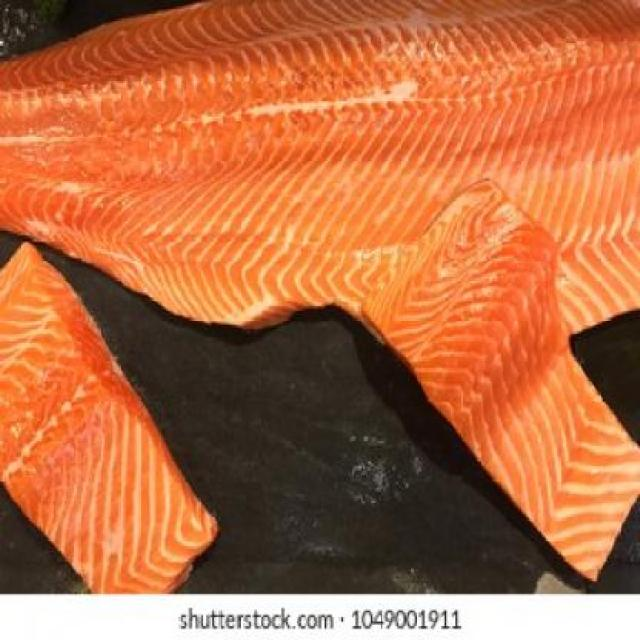salmon: (1, 12, 640, 355), (343, 168, 640, 582), (2, 226, 223, 594)
